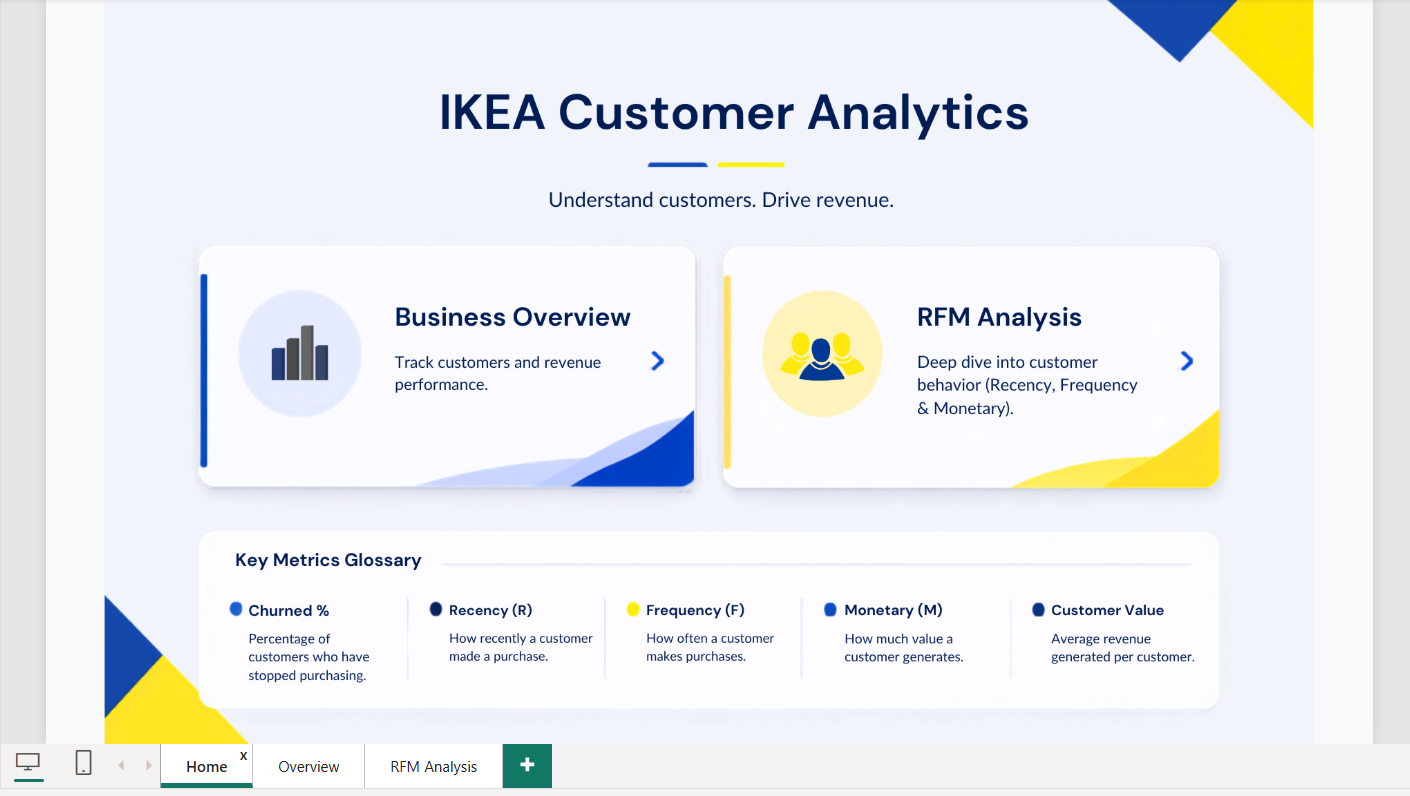

This screenshot's page, from the dashboard's own definition file:
{"tool":"powerbi","page":{"name":"Home","canvas":[1920,1080],"ordinal":2},"visuals":[{"type":"actionButton","title":"Buisness Overview","box":[220.8,360.1,720.2,351.1],"z":1},{"type":"actionButton","box":[986.3,360.1,709.4,351.1],"z":2}]}

Visuals, with their boxes on the page's 1920x1080 design canvas (x1, y1, x2, y2). These are canvas units, not pixel positions in the 1410x796 screenshot, which may show the page scaled, cropped or inside an application window:
"Buisness Overview" actionButton: [221, 360, 941, 711]
actionButton: [986, 360, 1696, 711]
